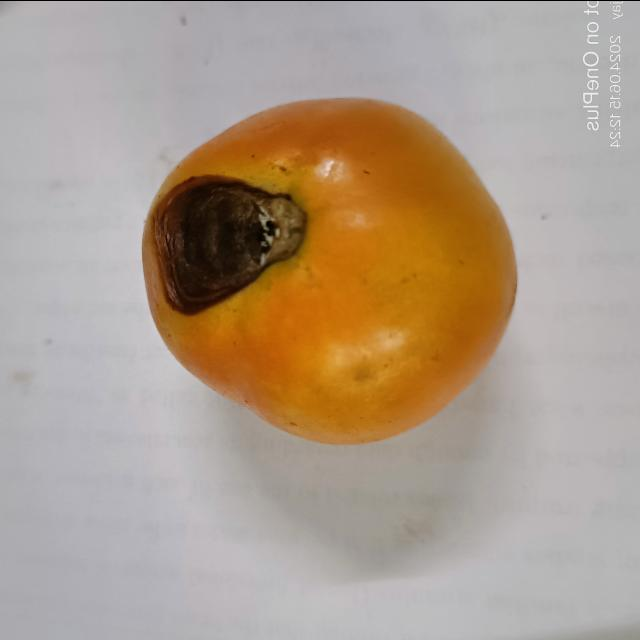Anthrocnose: (152, 174, 308, 314)
